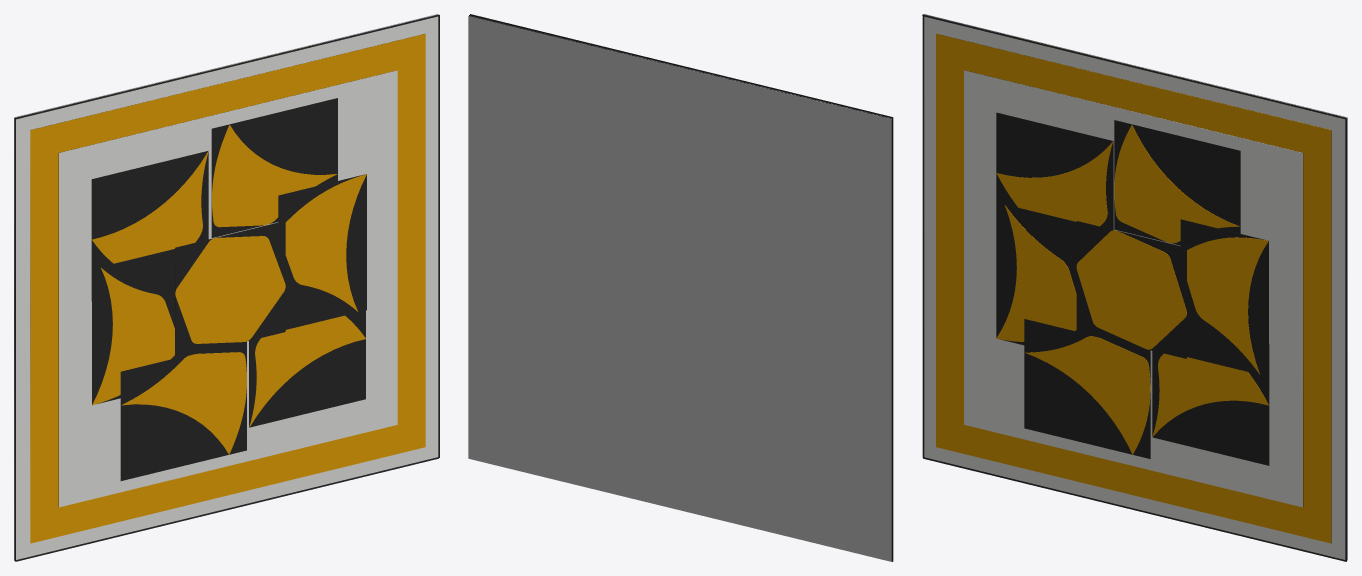
The picture shows the model from 3 angles, left to right: view 1: azimuth 30°, elevation 25°; view 2: azimuth 150°, elevation 25°; view 3: azimuth 330°, elevation 25°; orthographic projection.
Parts seen in each view (by area): view 1: ID15c_p11, ID15c_p13, ID15c_p01, ID15c_p27, ID15c_p18, ID15c_p22, ID15c_p19, ID15c_p25, ID15c_p14, ID15c_p20, ID15c_p23, ID15c_p17 (+10 smaller); view 2: ID15c_dos, ID15c_p00, ID15c_p08, ID15c_p02; view 3: ID15c_p11, ID15c_p13, ID15c_p01, ID15c_p27, ID15c_p18, ID15c_p22, ID15c_p19, ID15c_p25, ID15c_p14, ID15c_p20, ID15c_p23, ID15c_p24 (+12 smaller).
Part boxes in pixels (bbox=[...]): ID15c_p11: bbox=[30, 34, 425, 543]; ID15c_p13: bbox=[59, 70, 397, 507]; ID15c_p01: bbox=[16, 14, 438, 559]; ID15c_p27: bbox=[175, 236, 285, 343]; ID15c_p18: bbox=[120, 341, 246, 480]; ID15c_p22: bbox=[211, 98, 337, 237]; ID15c_p19: bbox=[121, 352, 246, 454]; ID15c_p25: bbox=[285, 174, 366, 311]; ID15c_p14: bbox=[91, 151, 208, 301]; ID15c_p20: bbox=[249, 310, 365, 427]; ID15c_p23: bbox=[211, 124, 337, 227]; ID15c_p17: bbox=[92, 268, 174, 405]; ID15c_dos: bbox=[468, 16, 891, 561]; ID15c_p00: bbox=[469, 15, 892, 561]; ID15c_p08: bbox=[470, 14, 893, 118]; ID15c_p02: bbox=[892, 118, 893, 561]; ID15c_p11: bbox=[936, 34, 1331, 543]; ID15c_p13: bbox=[964, 70, 1302, 507]; ID15c_p01: bbox=[924, 14, 1346, 559]; ID15c_p27: bbox=[1076, 230, 1186, 349]; ID15c_p18: bbox=[1024, 319, 1150, 458]; ID15c_p22: bbox=[1114, 120, 1240, 245]; ID15c_p19: bbox=[1025, 336, 1150, 454]; ID15c_p25: bbox=[1187, 237, 1268, 374]; ID15c_p14: bbox=[996, 112, 1113, 229]; ID15c_p20: bbox=[1152, 344, 1269, 465]; ID15c_p23: bbox=[1114, 125, 1239, 243]; ID15c_p24: bbox=[1180, 219, 1268, 376].
Bounding box in the file's own units: 0.7 × 0.6998 × 0.0127.
